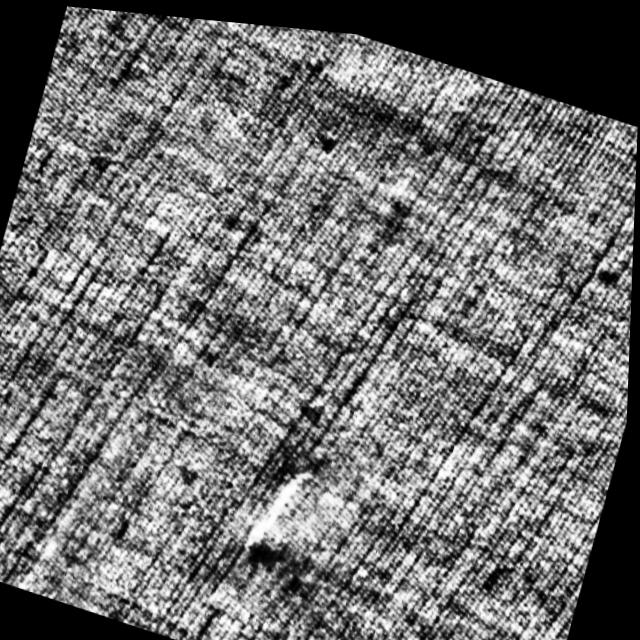Stitch: (238, 446, 324, 576)
